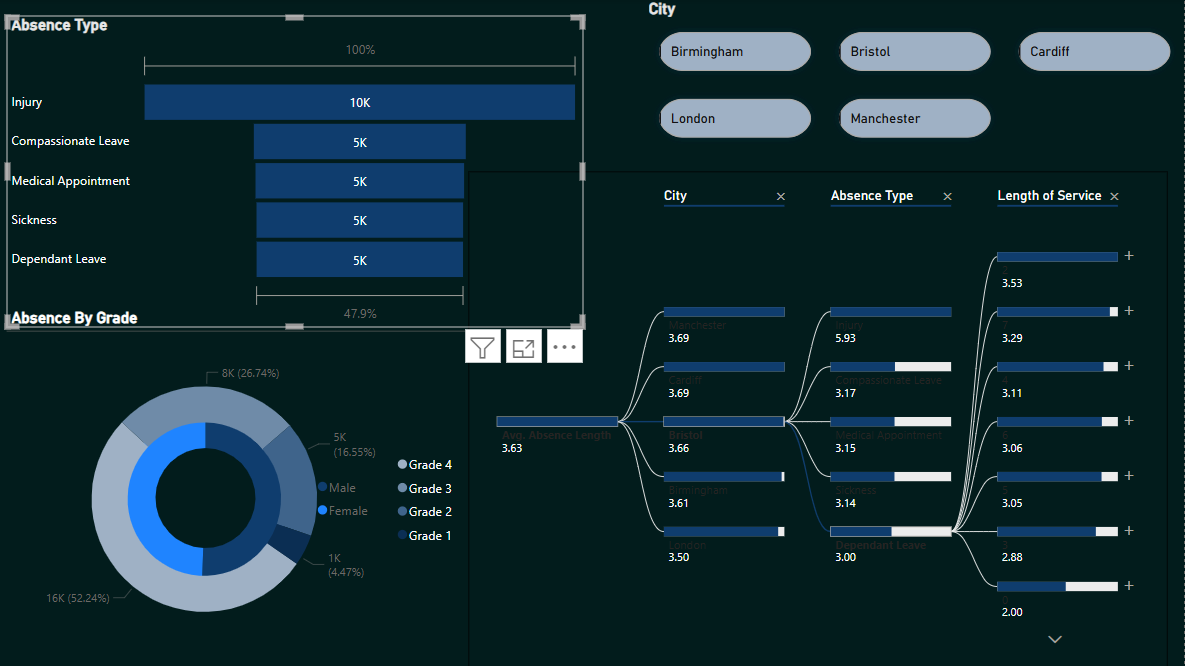

The dashboard page shown, as its layout file describes it:
{"tool":"powerbi","page":{"name":"Decomposition","canvas":[1280,720],"ordinal":0},"visuals":[{"type":"decompositionTreeVisual","fields":{"Analyze":["Measure.Avg. Absence Length"],"ExplainBy":["Absence.City","Absence.Absence Type","Absence.Length of Service","Absence.Gender"]},"box":[506.8,186.2,754.6,534.3],"z":0},{"type":"donutChart","fields":{"Category":["Absence.Gender"],"Y":["Sum(Absence.Absence Length)"]},"box":[97.2,421,315.7,234.8],"z":1000},{"type":"donutChart","title":"Absence By Grade","fields":{"Y":["Sum(Absence.Absence Length)"],"Category":["Absence.Grade"]},"box":[8.1,333.6,495.5,387],"z":2000},{"type":"advancedSlicerVisual","fields":{"Values":["Absence.City"]},"box":[696.3,0,584.5,166.8],"z":3000},{"type":"funnel","title":"Absence Type","fields":{"Category":["Absence.Absence Type"],"Y":["Sum(Absence.Absence Length)"]},"box":[8.1,17.8,623.4,336.8],"z":3001}]}

Visuals, with their boxes in screenshot pixels (x1, y1, x2, y2), scaled from the page's 1280x720 canvas onto the 1185x666 screenshot:
decompositionTreeVisual - Measure.Avg. Absence Length x Absence.City: crop(469, 172, 1168, 665)
donutChart - Absence.Gender x Sum(Absence.Absence Length): crop(90, 389, 382, 607)
"Absence By Grade" donutChart: crop(7, 309, 466, 665)
advancedSlicerVisual - Absence.City: crop(645, 0, 1184, 154)
"Absence Type" funnel: crop(7, 16, 585, 328)
